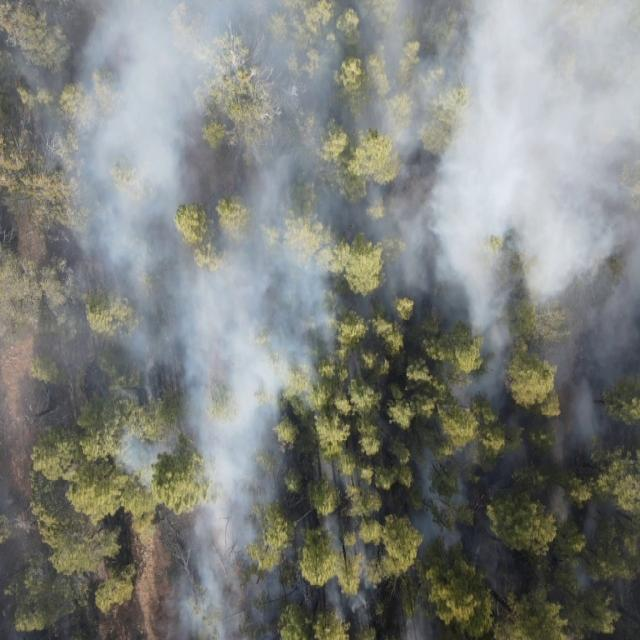smoke: (0, 0, 640, 425), (163, 426, 640, 640), (0, 469, 81, 640), (115, 436, 178, 486)
